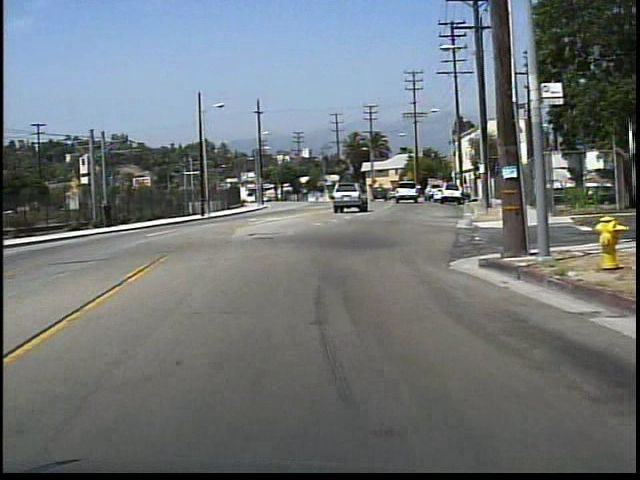person: (103, 196, 118, 229)
